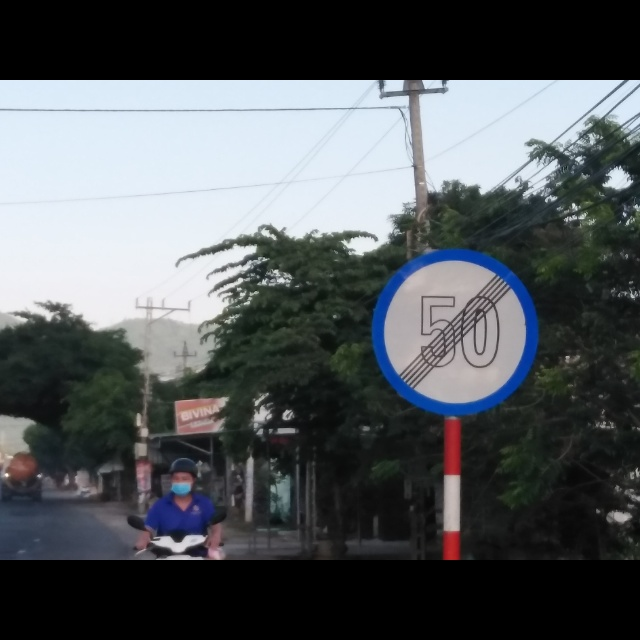Hết hạn chế tốc độ tối đa 50km/h: (369, 240, 541, 414)
